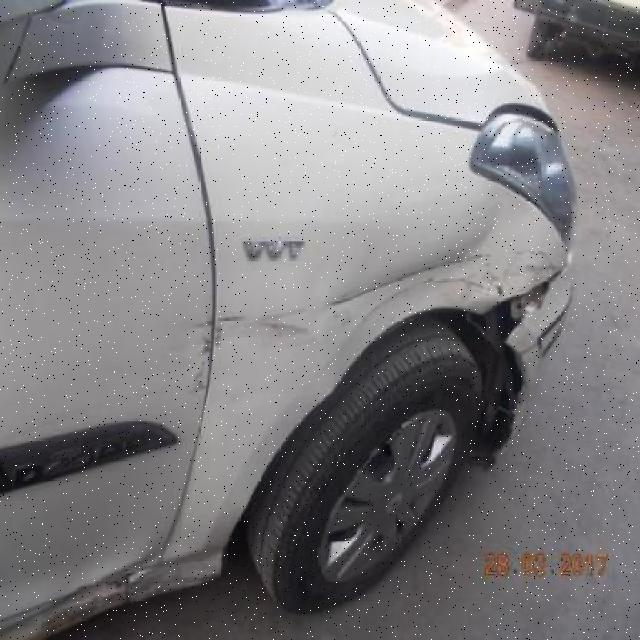damage: (4, 548, 220, 640), (326, 253, 493, 335), (471, 262, 566, 369), (191, 315, 251, 397), (261, 306, 320, 346)
